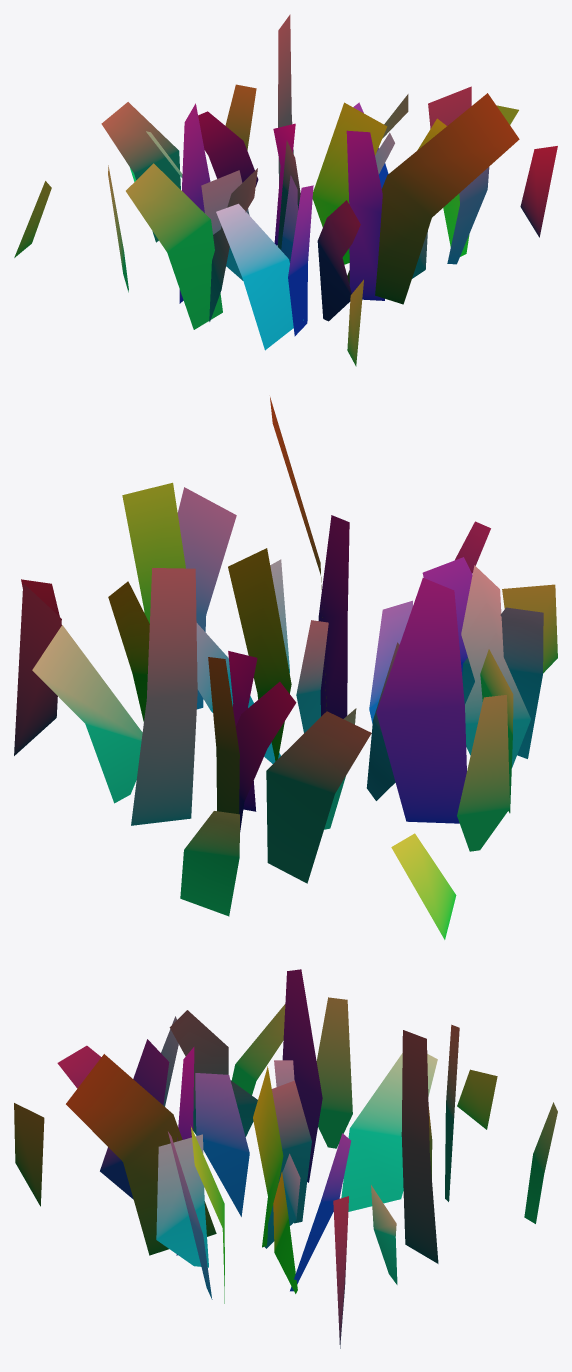
Rendered from Matted_Pratia_uegjcflia_High_uegjcflia_VarC_LOD1.fbx.
3 views of the same model, one above another, from view 1: azimuth 30°, elevation 25°; view 2: azimuth 150°, elevation 25°; view 3: azimuth 270°, elevation 25° (orthographic). The views are drawn at different scales.
Visible parts, largest first — view 1: _cd6f_VarC_LOD2; view 2: _cd6f_VarC_LOD2; view 3: _cd6f_VarC_LOD2.
Boxes of the visible parts, left/top/right/bottom form: _cd6f_VarC_LOD2: left=14, top=14, right=557, bottom=366; _cd6f_VarC_LOD2: left=14, top=397, right=557, bottom=939; _cd6f_VarC_LOD2: left=14, top=969, right=557, bottom=1348.
Size of the model in its own units: 11.21 by 5.48 by 10.84.
